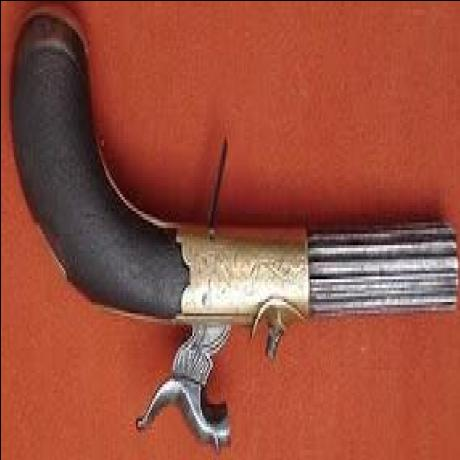weapon: (8, 0, 460, 459)
